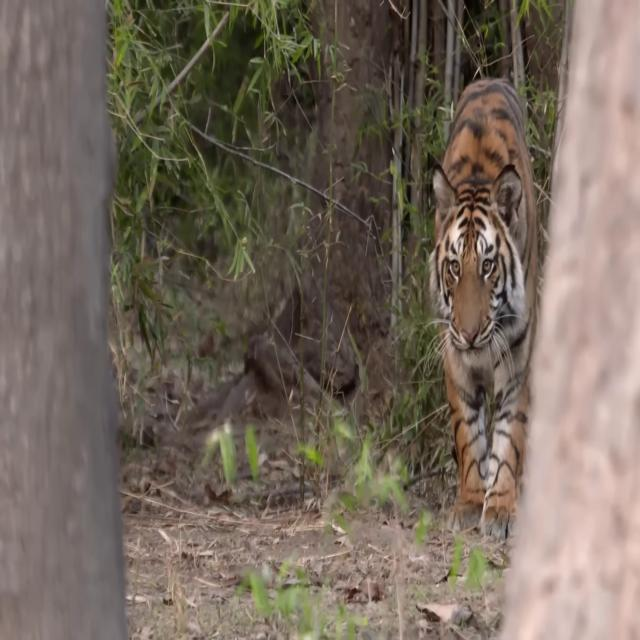tiger: (428, 77, 540, 541), (568, 539, 568, 541)
